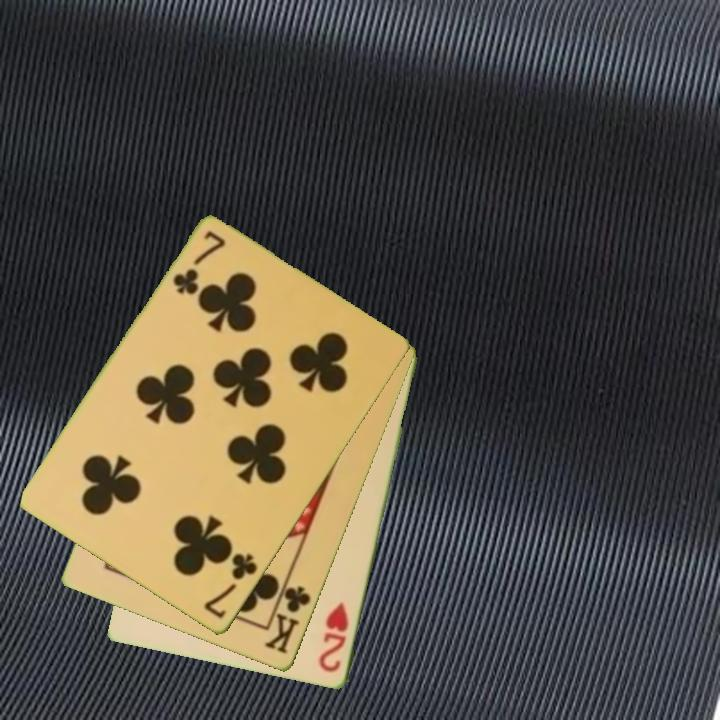2h: (315, 598, 352, 676)
7c: (200, 550, 261, 622), (169, 227, 229, 298)
Kc: (261, 573, 315, 657)
